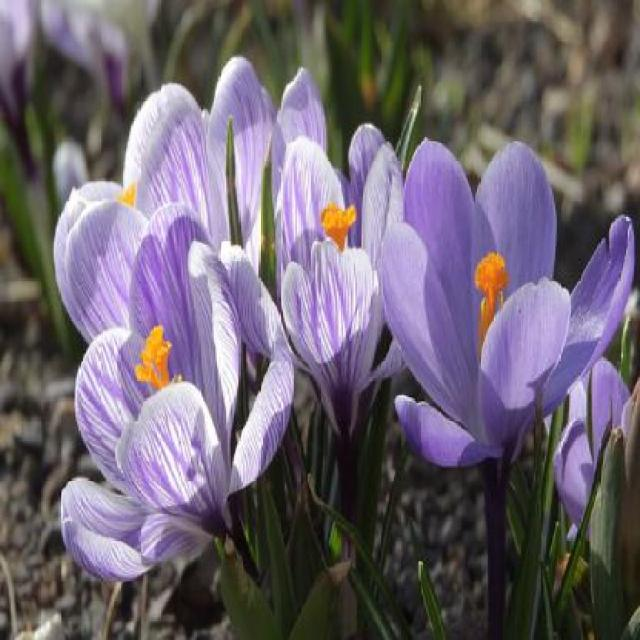Flower: (43, 214, 289, 589), (393, 133, 632, 487), (262, 130, 416, 458)
